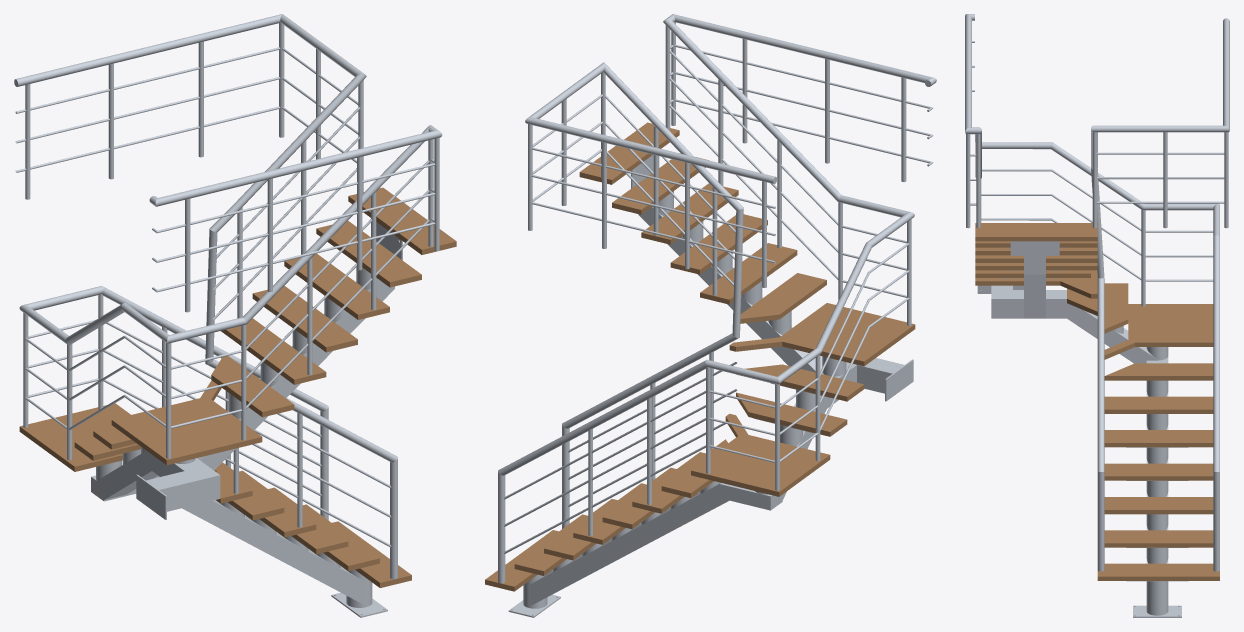
The picture shows the model from 3 angles, left to right: view 1: azimuth 30°, elevation 25°; view 2: azimuth 150°, elevation 25°; view 3: azimuth 270°, elevation 25°; orthographic projection. The views are drawn at different scales.
Visible parts, largest first — view 1: Group1, Group24, Group37, Group36, Group28, Group23, Group31, Group30, Group18, Group35, Group27, Group15 (+8 smaller); view 2: Group1, Group36, Group24, Group28, Group37, Group35, Group15, Group23, Group13, Group18, Group31, Group30 (+9 smaller); view 3: Group1, Group28, Group37, Group18, Group35, Group17, Group20, Group3, Group6, Group19, Group26, Group2 (+13 smaller).
Part boxes in pixels (x1,y1,x2,y2): Group1: [14, 14, 442, 579]; Group24: [111, 380, 262, 465]; Group37: [97, 450, 220, 519]; Group36: [91, 475, 364, 605]; Group28: [19, 403, 130, 471]; Group23: [221, 318, 326, 384]; Group31: [252, 286, 357, 352]; Group30: [284, 253, 389, 319]; Group18: [348, 187, 456, 254]; Group35: [197, 222, 402, 470]; Group27: [316, 221, 421, 287]; Group15: [211, 356, 294, 417]; Group1: [498, 14, 936, 583]; Group36: [530, 482, 782, 606]; Group24: [729, 303, 915, 366]; Group28: [691, 413, 830, 496]; Group37: [782, 358, 913, 499]; Group35: [631, 154, 822, 372]; Group15: [740, 273, 826, 323]; Group23: [700, 243, 797, 304]; Group13: [736, 392, 847, 436]; Group18: [579, 122, 679, 184]; Group31: [670, 214, 767, 274]; Group30: [641, 183, 738, 244]; Group1: [965, 14, 1229, 571]; Group28: [1104, 304, 1213, 359]; Group37: [977, 285, 1158, 363]; Group18: [975, 223, 1097, 241]; Group35: [1010, 241, 1059, 318]; Group17: [1097, 563, 1219, 580]; Group20: [1104, 530, 1213, 547]; Group3: [1104, 497, 1213, 514]; Group6: [1104, 430, 1213, 447]; Group19: [1104, 463, 1213, 480]; Group26: [1104, 396, 1213, 413]; Group2: [1104, 363, 1213, 380].
Size of the model in its own units: 2373 by 3828 by 1947.
